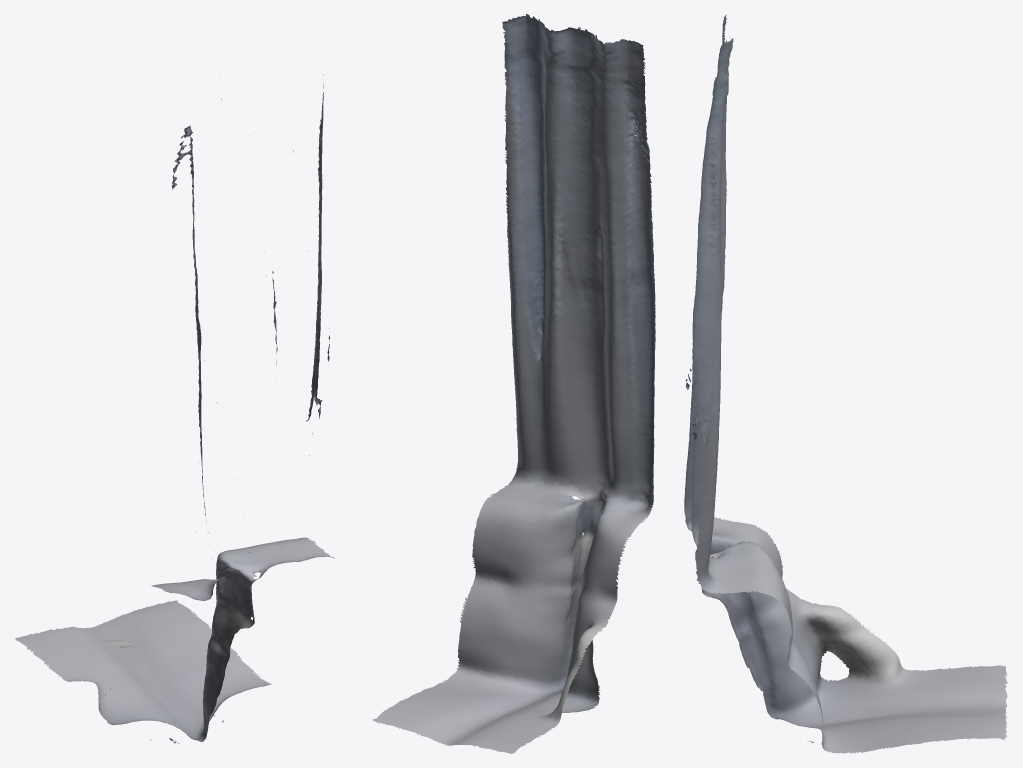
File: apartment-full-87-d425b31af6af.glb
3 renders of one model, left to right at view 1: azimuth 30°, elevation 25°; view 2: azimuth 150°, elevation 25°; view 3: azimuth 270°, elevation 25°, orthographic. The views are drawn at different scales.
Bounding box in the file's own units: 0.48 × 2.09 × 0.885.
